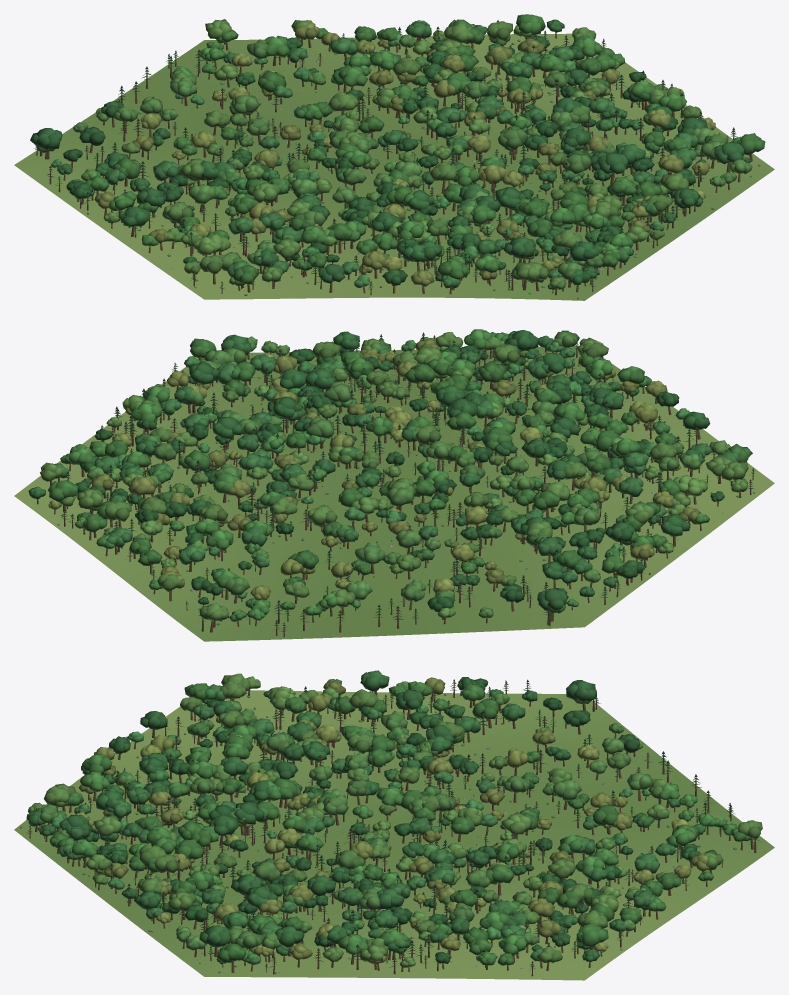
3 views of the same model, one above another, from view 1: azimuth 30°, elevation 25°; view 2: azimuth 150°, elevation 25°; view 3: azimuth 270°, elevation 25° (orthographic).
Visible parts, largest first — view 1: broadleaf_canopy, terrain, trunks, conifer_canopy; view 2: broadleaf_canopy, terrain, trunks, conifer_canopy; view 3: broadleaf_canopy, terrain, trunks, conifer_canopy.
Boxes of the visible parts, x1,y1,x2,y2 form: broadleaf_canopy: [30, 14, 765, 289]; terrain: [14, 33, 774, 300]; trunks: [36, 21, 752, 295]; conifer_canopy: [34, 19, 737, 289]; broadleaf_canopy: [28, 329, 752, 621]; terrain: [14, 345, 774, 641]; trunks: [37, 333, 753, 637]; conifer_canopy: [61, 332, 754, 631]; broadleaf_canopy: [26, 670, 762, 967]; terrain: [14, 690, 774, 980]; trunks: [29, 680, 756, 976]; conifer_canopy: [27, 679, 760, 970].
Bounding box in the file's own units: 4330 × 361 × 5000.
